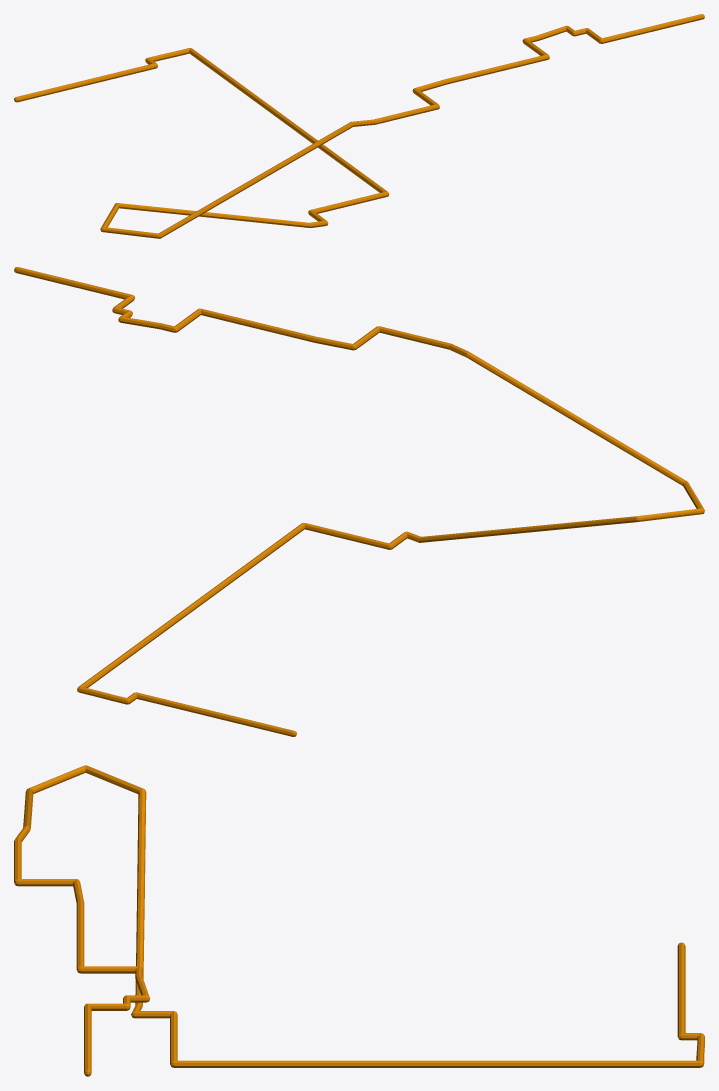
3 views of the same model, one above another, from view 1: azimuth 30°, elevation 25°; view 2: azimuth 150°, elevation 25°; view 3: azimuth 270°, elevation 25° (orthographic). The views are drawn at different scales.
Bounding box in the file's own units: 2402 × 520 × 1772.
